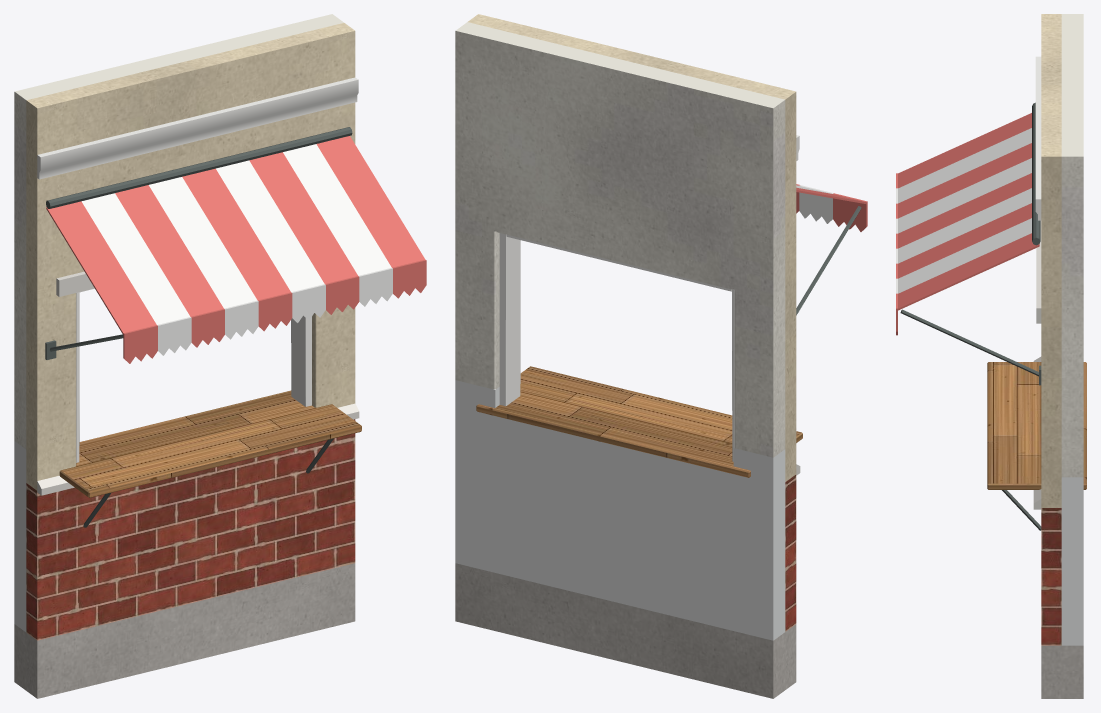
The model's file is c_svc.glb.
3 views of the same model, side by side, from view 1: azimuth 30°, elevation 25°; view 2: azimuth 150°, elevation 25°; view 3: azimuth 270°, elevation 25° (orthographic). The views are drawn at different scales.
Visible parts, largest first — view 1: c_svc_render, c_svc_brick, c_svc_flag_r, c_svc_paint_w, c_svc_concrete, c_svc_wood, c_svc_trim, c_svc_plaster, c_svc_iron, c_svc_tile, c_svc_coping; view 2: c_svc_plaster, c_svc_tile, c_svc_concrete, c_svc_wood, c_svc_render, c_svc_trim, c_svc_brick, c_svc_flag_r, c_svc_paint_w; view 3: c_svc_flag_r, c_svc_plaster, c_svc_render, c_svc_paint_w, c_svc_wood, c_svc_tile, c_svc_brick, c_svc_concrete, c_svc_iron, c_svc_trim, c_svc_coping.
Part boxes in pixels (bbox=[...]): c_svc_render: bbox=[26, 23, 355, 490]; c_svc_brick: bbox=[26, 419, 355, 640]; c_svc_flag_r: bbox=[46, 136, 426, 363]; c_svc_paint_w: bbox=[81, 144, 392, 355]; c_svc_concrete: bbox=[14, 563, 355, 698]; c_svc_wood: bbox=[59, 390, 361, 497]; c_svc_trim: bbox=[37, 77, 358, 462]; c_svc_plaster: bbox=[14, 14, 343, 449]; c_svc_iron: bbox=[45, 127, 352, 527]; c_svc_tile: bbox=[14, 441, 26, 632]; c_svc_coping: bbox=[37, 271, 359, 495]; c_svc_plaster: bbox=[455, 22, 785, 457]; c_svc_tile: bbox=[455, 380, 785, 640]; c_svc_concrete: bbox=[455, 563, 796, 698]; c_svc_wood: bbox=[476, 366, 802, 477]; c_svc_render: bbox=[468, 14, 796, 481]; c_svc_trim: bbox=[499, 135, 799, 461]; c_svc_brick: bbox=[785, 474, 796, 631]; c_svc_flag_r: bbox=[796, 184, 867, 231]; c_svc_paint_w: bbox=[796, 185, 833, 223]; c_svc_flag_r: bbox=[896, 113, 1039, 335]; c_svc_plaster: bbox=[1061, 14, 1083, 477]; c_svc_render: bbox=[1041, 14, 1061, 507]; c_svc_paint_w: bbox=[896, 128, 1031, 293]; c_svc_wood: bbox=[987, 362, 1086, 489]; c_svc_tile: bbox=[1061, 477, 1083, 645]; c_svc_brick: bbox=[1041, 508, 1061, 645]; c_svc_concrete: bbox=[1041, 645, 1083, 698]; c_svc_iron: bbox=[900, 102, 1041, 530]; c_svc_trim: bbox=[1035, 56, 1041, 220]; c_svc_coping: bbox=[1033, 221, 1041, 509].
Size of the model in its own units: 2 by 3.55 by 1.13.
11 materials, 5 textured.
